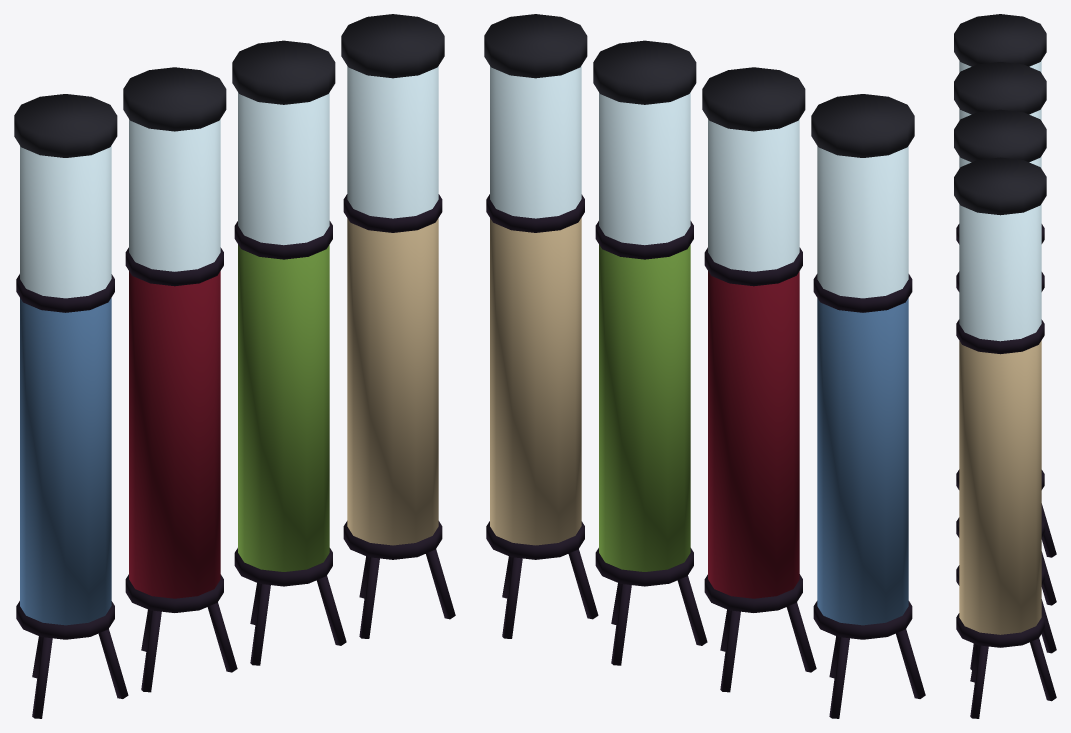
File: glass_vessels.glb
3 renders of one model, left to right at view 1: azimuth 30°, elevation 25°; view 2: azimuth 150°, elevation 25°; view 3: azimuth 270°, elevation 25°, orthographic. The views are drawn at different scales.
Parts seen in each view (by area): view 1: glass_vessels; view 2: glass_vessels; view 3: glass_vessels.
Part boxes in pixels (x1,y1,x2,y2): glass_vessels: [14, 14, 455, 718]; glass_vessels: [484, 14, 925, 718]; glass_vessels: [954, 14, 1056, 718].
Size of the model in its own units: 0.8499 by 1.12 by 0.1997.
